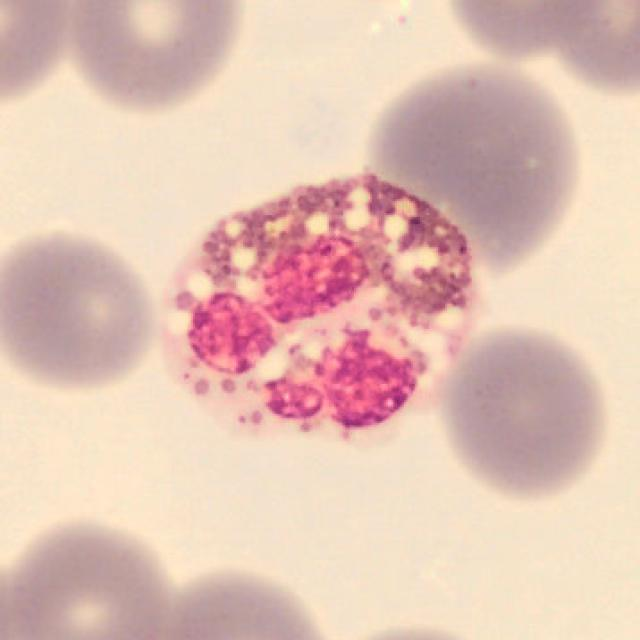Eosinofilo: (157, 174, 481, 444)
